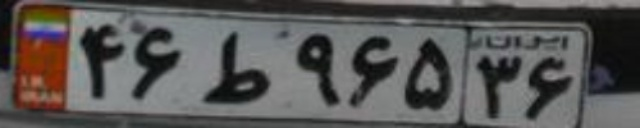3: (474, 55, 520, 119)
4: (78, 23, 125, 99)
5: (402, 36, 454, 110)
6: (130, 26, 183, 98), (347, 35, 399, 107), (524, 55, 577, 119)
9: (290, 34, 339, 106)
dal: (198, 30, 269, 105)
